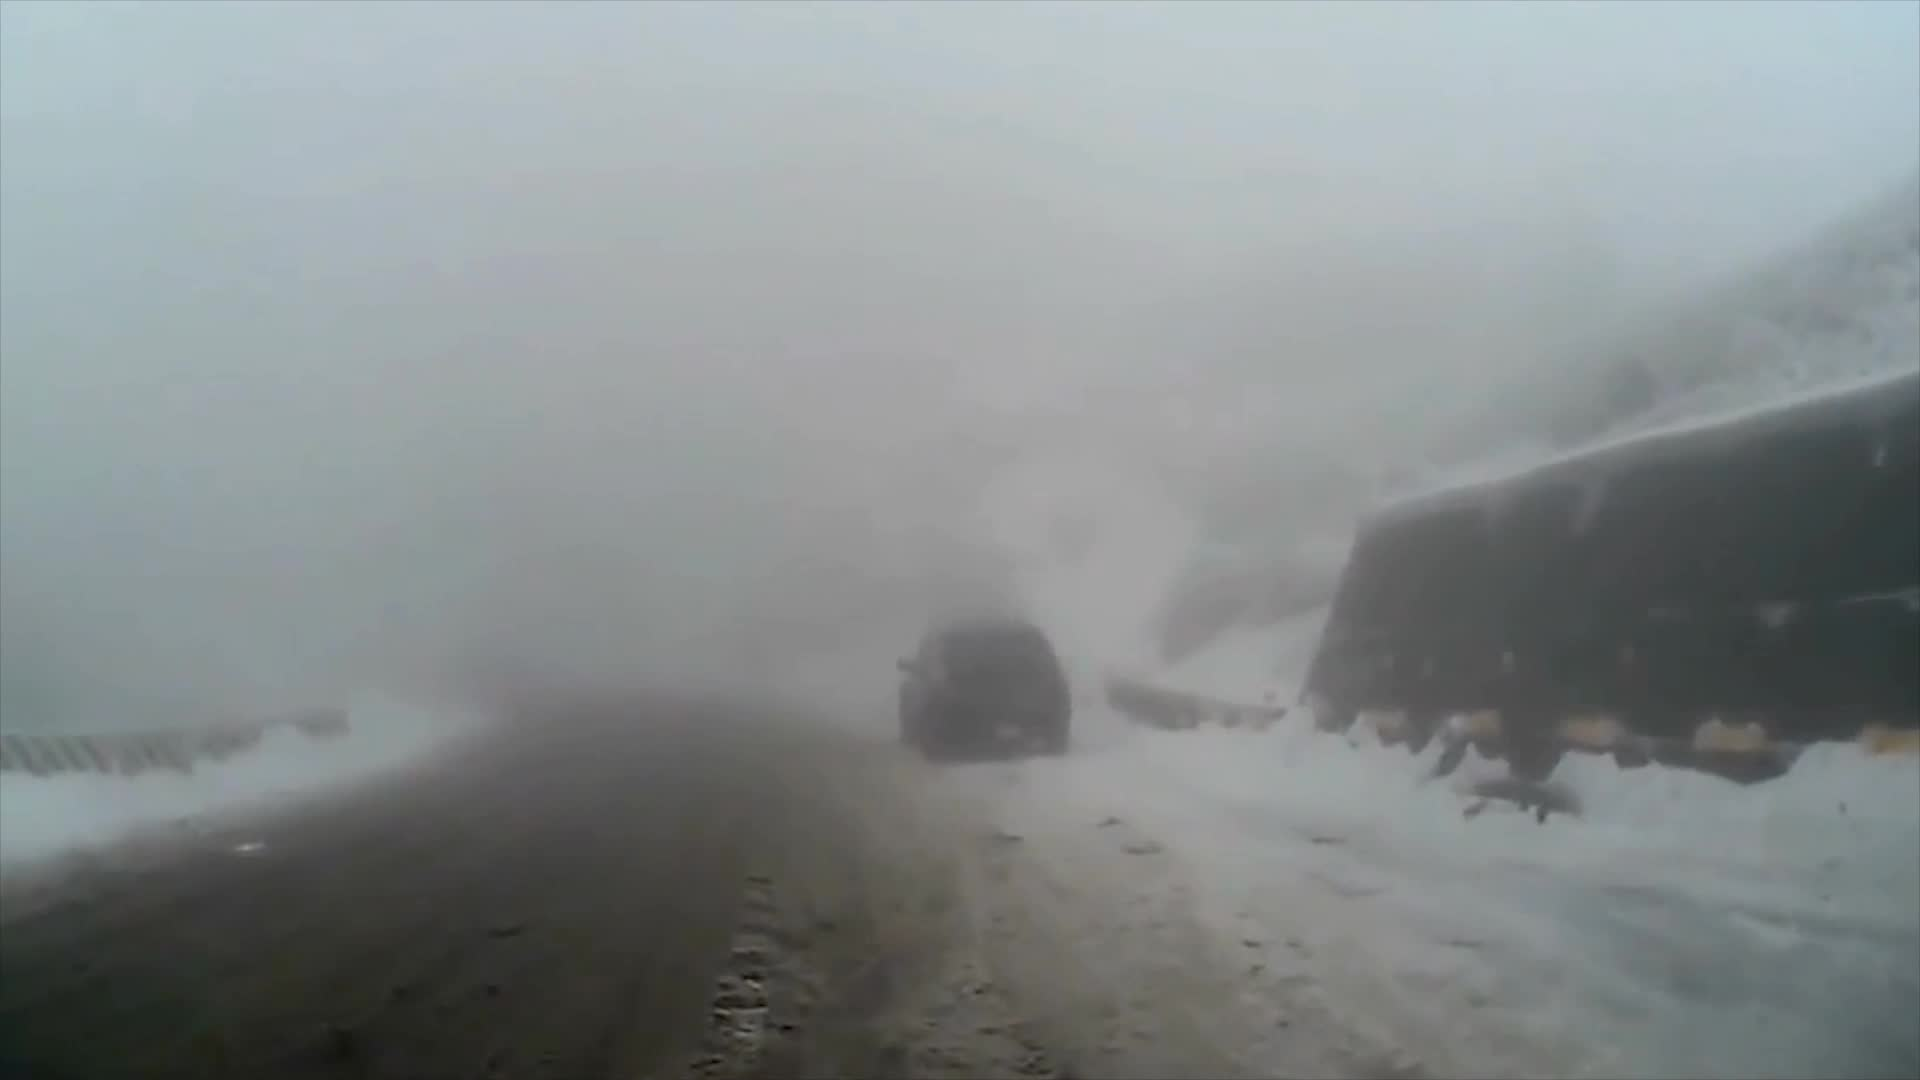vehicle: (890, 612, 1068, 761)
